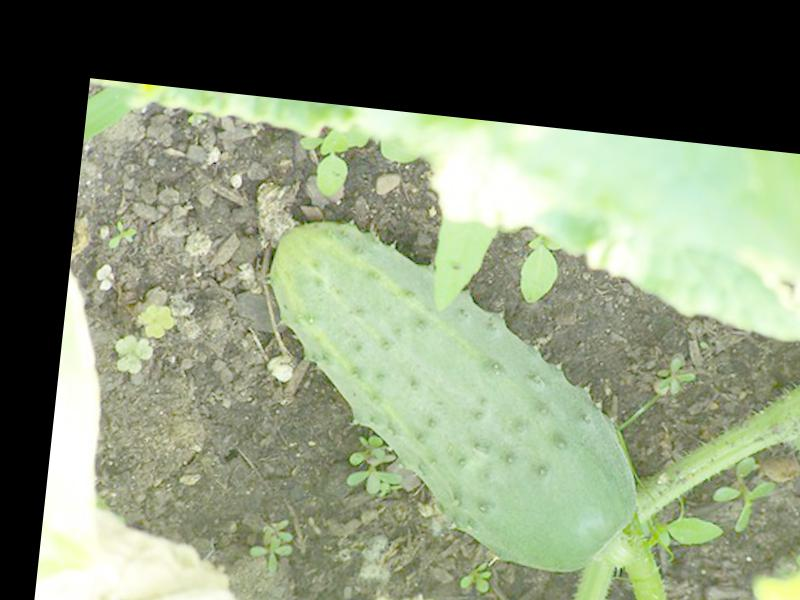Cucumber: (242, 216, 665, 581)
